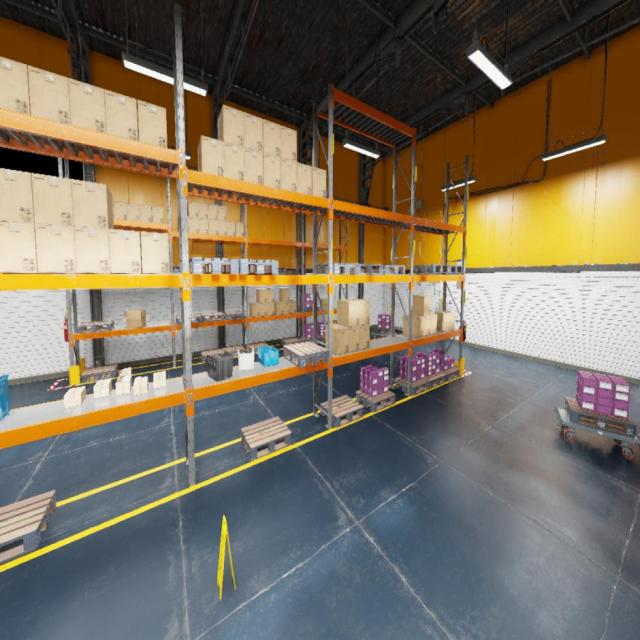box: (28, 66, 71, 124), (32, 173, 74, 226), (72, 179, 114, 229), (35, 223, 77, 273), (0, 221, 40, 273), (69, 78, 107, 132), (0, 168, 34, 222), (0, 56, 31, 115), (74, 226, 111, 274), (105, 90, 139, 141), (138, 99, 168, 148), (109, 229, 142, 273), (141, 232, 169, 274), (218, 104, 244, 147), (197, 136, 224, 177), (224, 142, 245, 180), (244, 112, 263, 152), (244, 148, 264, 185), (326, 324, 348, 355), (264, 119, 281, 157), (280, 125, 297, 162), (264, 153, 281, 189), (337, 300, 360, 326), (63, 386, 86, 409), (350, 299, 370, 325), (281, 159, 297, 191), (297, 162, 312, 195), (402, 315, 423, 337), (312, 166, 326, 198), (116, 367, 131, 396), (435, 311, 456, 331), (413, 294, 431, 316), (125, 310, 146, 328), (94, 378, 112, 398), (416, 314, 430, 336), (348, 326, 359, 352), (133, 376, 148, 395), (126, 202, 140, 221), (360, 324, 370, 350), (139, 204, 152, 223), (114, 201, 127, 220), (153, 371, 166, 389), (152, 206, 163, 223), (187, 201, 198, 217), (208, 203, 218, 220), (178, 217, 189, 232), (208, 219, 218, 235), (188, 217, 198, 233), (199, 202, 208, 219), (274, 300, 284, 315), (250, 302, 260, 317), (430, 313, 437, 334), (218, 220, 227, 236), (218, 205, 227, 221), (199, 218, 208, 234), (280, 288, 290, 301), (264, 289, 274, 302), (257, 289, 267, 302), (227, 222, 236, 236), (280, 301, 289, 314), (236, 222, 243, 238), (267, 302, 274, 316), (260, 303, 267, 316), (320, 298, 327, 310), (290, 300, 296, 313), (113, 200, 114, 219)
pallets: (0, 490, 56, 564), (564, 397, 636, 438), (241, 417, 291, 460), (321, 396, 364, 428), (283, 342, 328, 368), (356, 390, 396, 412), (189, 257, 238, 274), (81, 364, 118, 384), (395, 377, 431, 396), (238, 258, 278, 274), (77, 321, 114, 334), (317, 263, 359, 274), (342, 264, 382, 274), (424, 372, 446, 388), (201, 348, 224, 362), (440, 367, 460, 382), (221, 345, 245, 357), (176, 314, 202, 325), (414, 265, 449, 273), (375, 265, 405, 274), (249, 342, 269, 353), (436, 265, 463, 273), (200, 313, 224, 322), (224, 310, 245, 320), (281, 338, 302, 346), (374, 327, 395, 335), (300, 306, 319, 312), (300, 337, 320, 342), (281, 270, 299, 274), (173, 268, 180, 274), (318, 336, 325, 341), (202, 268, 204, 274), (279, 270, 281, 274)
